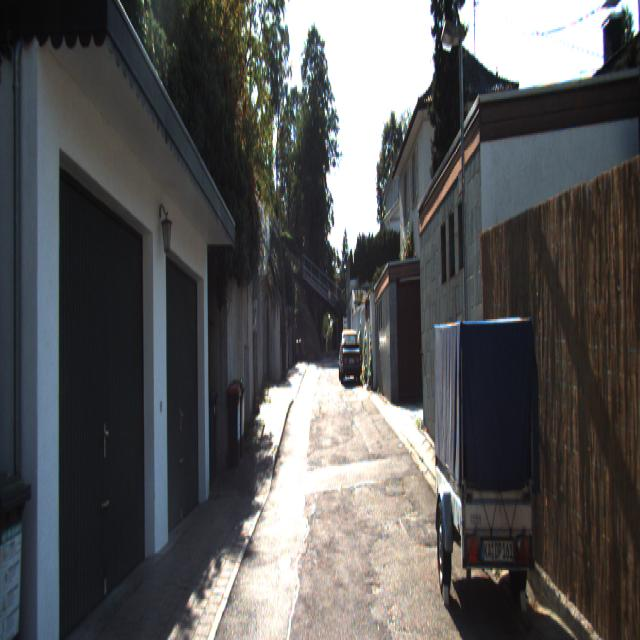Car: (338, 327, 361, 386)
Misc: (429, 281, 556, 618)
